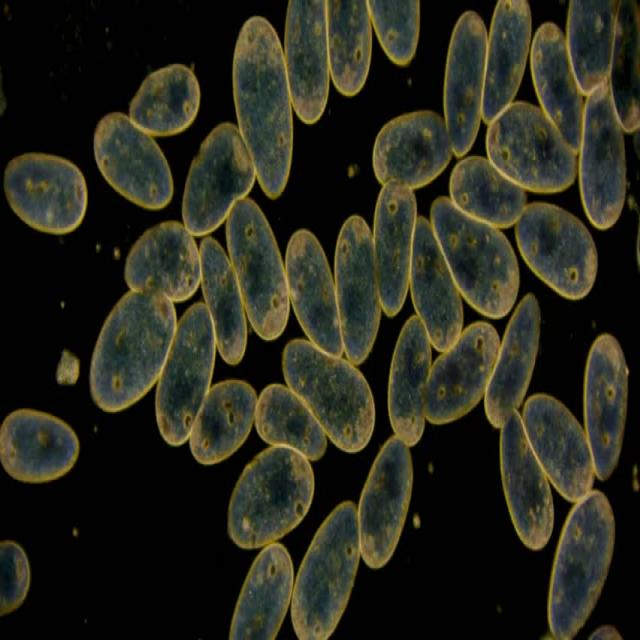Hydra: (1, 3, 637, 640)
